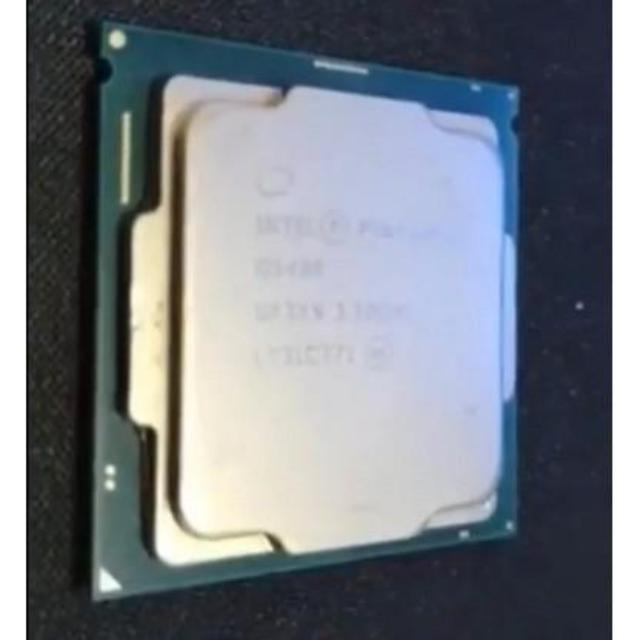CPU: (110, 23, 519, 557)
